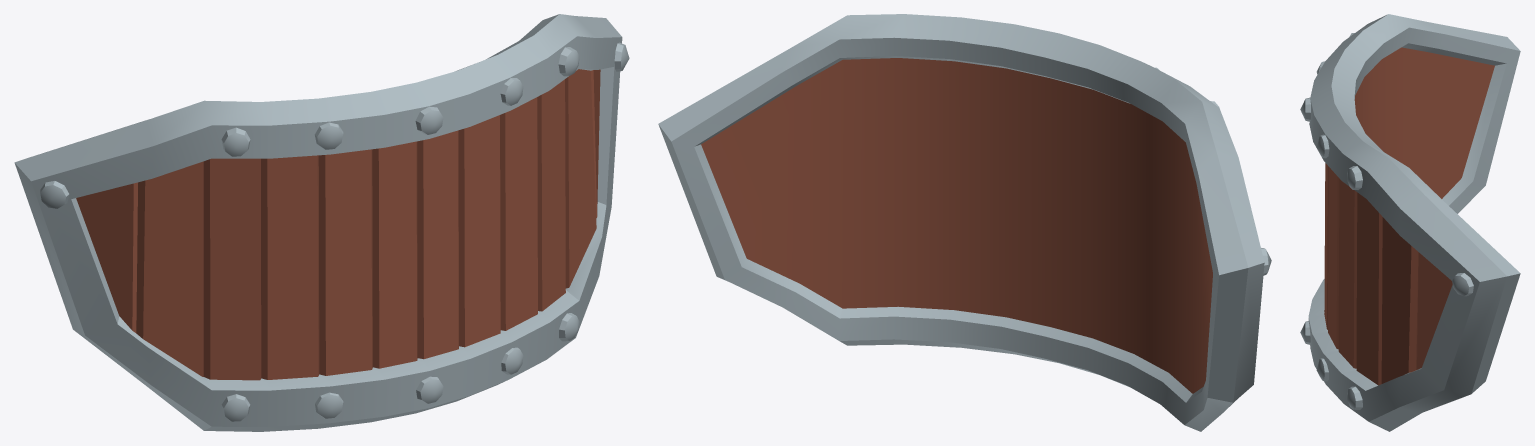
File: shieldArc.fbx
3 views of the same model, side by side, from view 1: azimuth 30°, elevation 25°; view 2: azimuth 150°, elevation 25°; view 3: azimuth 270°, elevation 25° (orthographic). The views are drawn at different scales.
Parts seen in each view (by area): view 1: shieldArc; view 2: shieldArc; view 3: shieldArc.
Boxes of the visible parts, x1=… form: shieldArc: x1=14, y1=14, x2=629, y2=431; shieldArc: x1=658, y1=14, x2=1271, y2=431; shieldArc: x1=1300, y1=14, x2=1520, y2=431.
Bounding box in the file's own units: 1.76 × 0.9394 × 0.6843.
